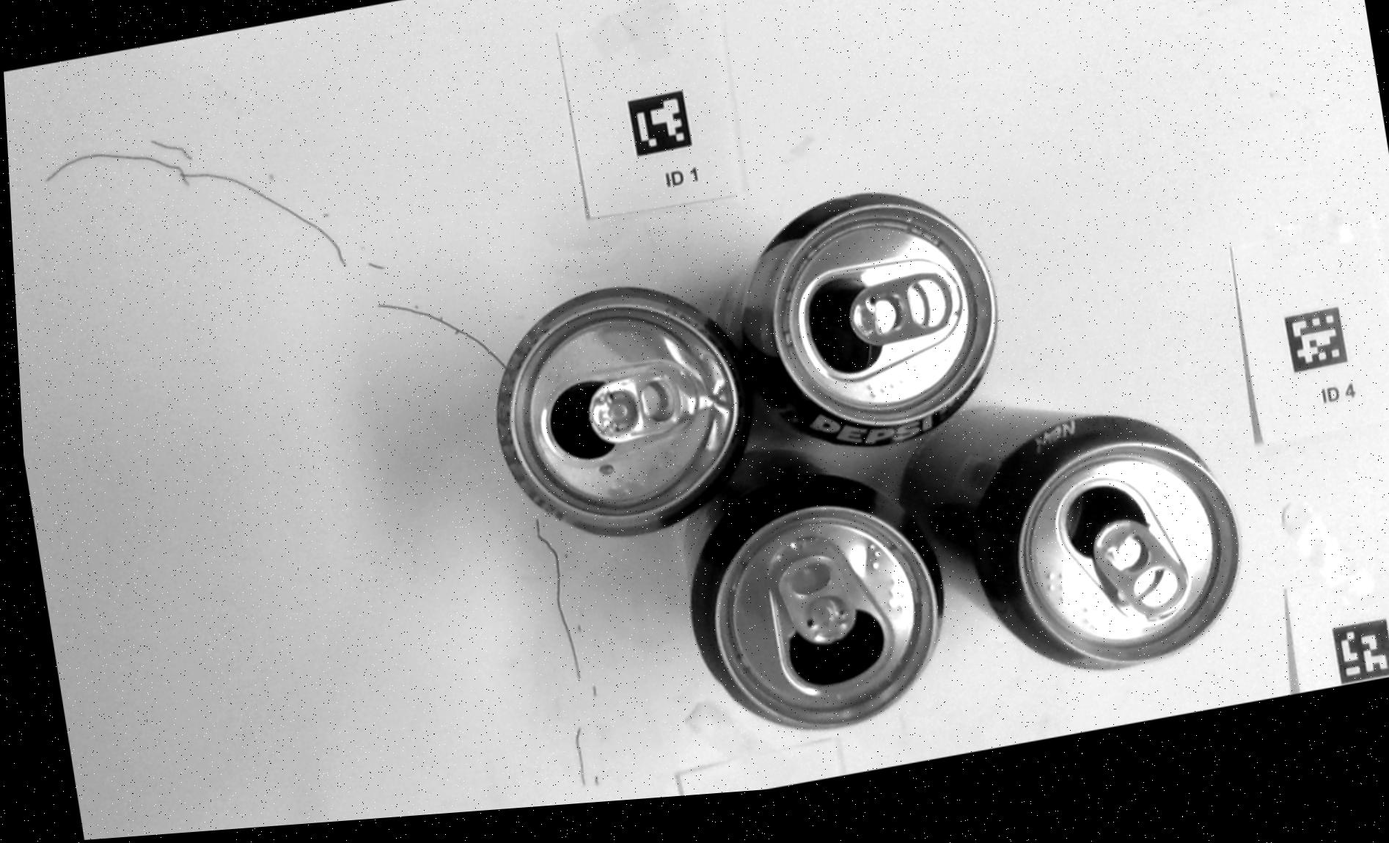can_coke_decaf: (496, 286, 750, 535)
can_coke_zero: (901, 405, 1238, 668)
can_pepsi: (690, 449, 942, 727)
can_pepsi_zero: (740, 192, 996, 445)
